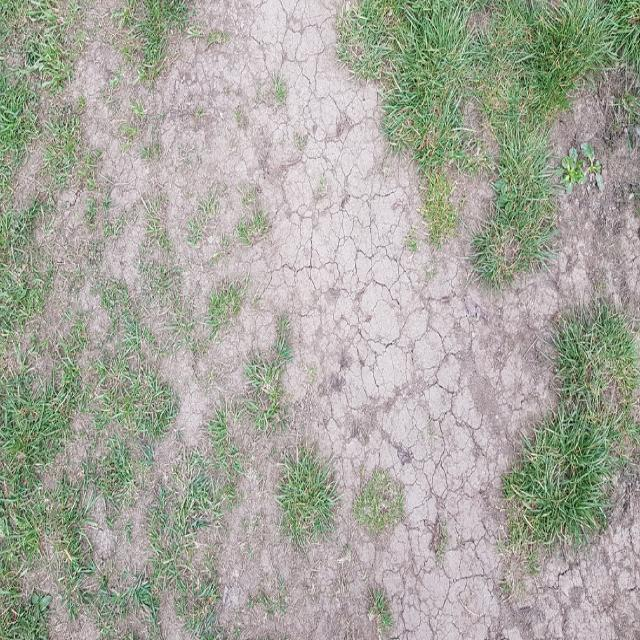grass: (336, 0, 639, 289), (502, 300, 635, 553), (140, 194, 192, 335), (111, 0, 189, 88), (276, 444, 339, 544), (190, 280, 248, 353), (352, 468, 404, 533), (368, 589, 391, 634)
white-sand: (39, 0, 639, 639)
